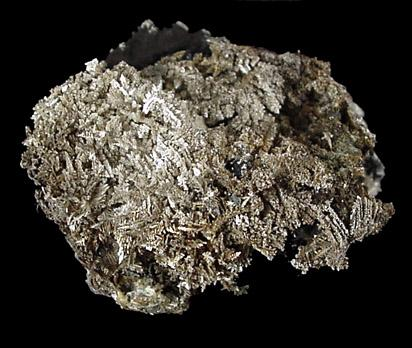silver: (21, 37, 394, 314)
